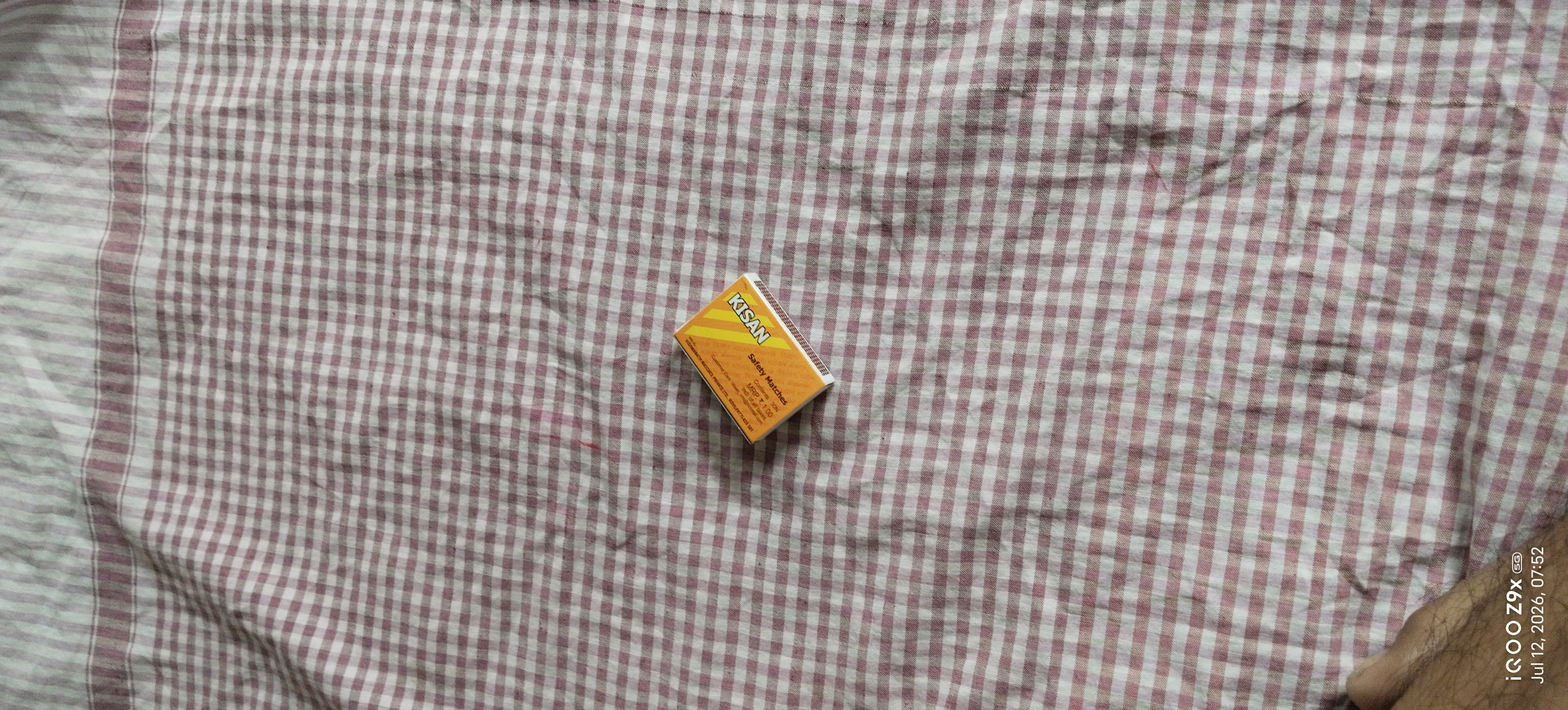matchbox: (649, 237, 867, 478)
